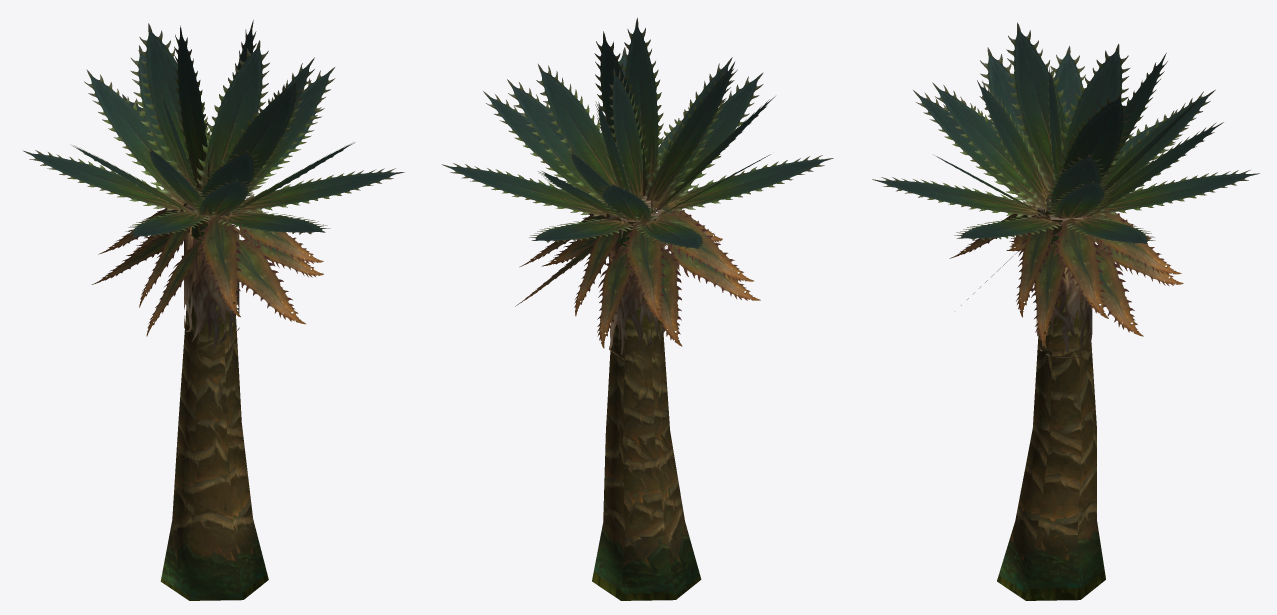
Rendered from agave_palm.dae.
The picture shows the model from 3 angles, left to right: view 1: azimuth 30°, elevation 25°; view 2: azimuth 150°, elevation 25°; view 3: azimuth 270°, elevation 25°; orthographic projection.
Visible parts, largest first — view 1: tree (×27); view 2: tree (×27); view 3: tree (×27).
Boxes of the visible parts, x1,y1,x2,y2 form: tree (×27): (23,23,404,600); tree (×27): (441,17,833,600); tree (×27): (872,22,1259,600).
Size of the model in its own units: 81.03 by 87.14 by 132.
Materials: 3 (3 with a texture image).
